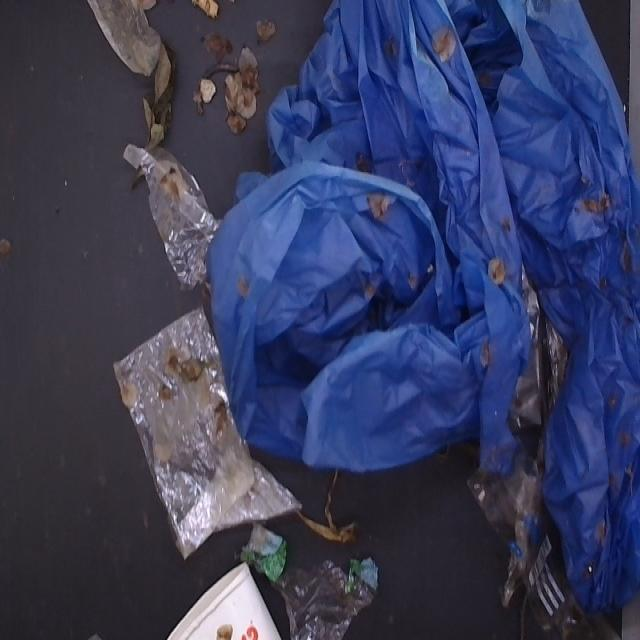food_packaging: (160, 563, 289, 640)
plastic_films: (108, 329, 298, 540), (473, 450, 607, 640), (244, 513, 389, 640), (126, 155, 232, 290), (82, 0, 177, 93)
